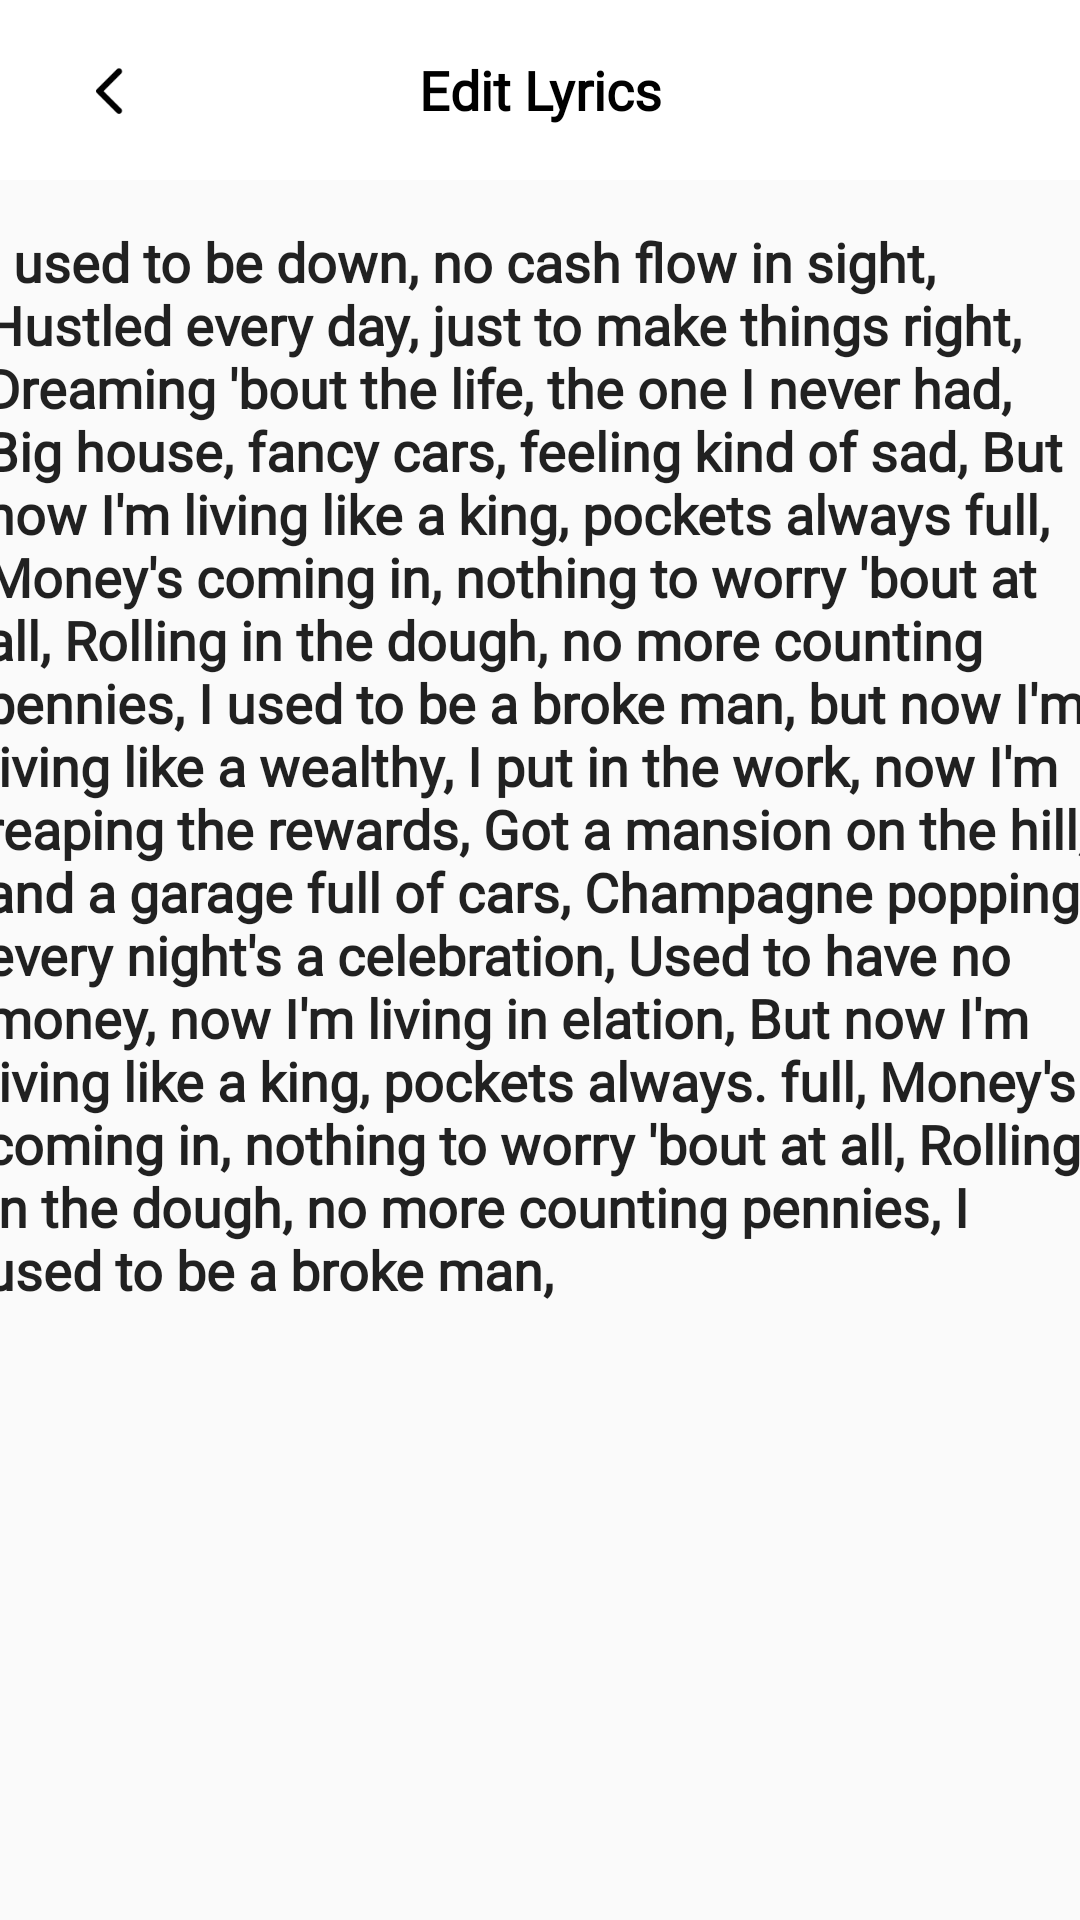

Where icons sit on this 1080px×1920px app screen, as (x1, y1, x2, y2):
back: (96, 68, 123, 114)
